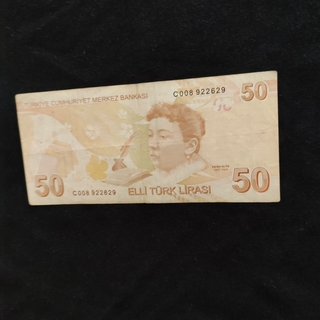50TLBack: (14, 70, 281, 206)
